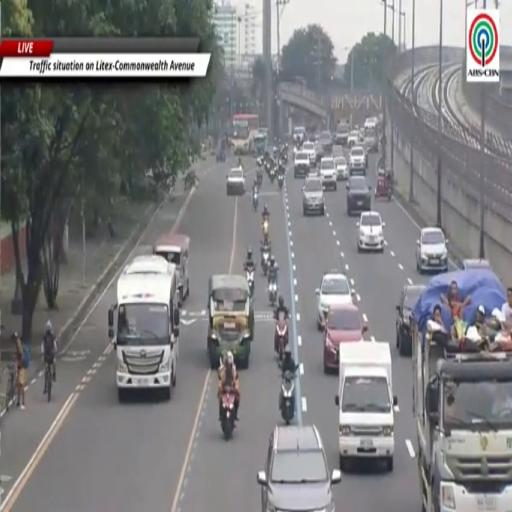bus: (231, 114, 259, 154)
car: (257, 425, 341, 511), (324, 303, 368, 373), (316, 270, 354, 329), (396, 284, 426, 356), (416, 228, 448, 274), (357, 212, 384, 252), (346, 176, 371, 216), (303, 175, 324, 215), (319, 157, 336, 190), (349, 147, 367, 175), (227, 168, 245, 196), (294, 151, 310, 178), (301, 141, 316, 165), (334, 156, 348, 180), (319, 132, 333, 155), (336, 122, 349, 146), (364, 132, 378, 153), (463, 259, 491, 269), (293, 126, 306, 145), (348, 131, 361, 147), (364, 118, 378, 132)
jeepney: (207, 275, 254, 369), (153, 232, 190, 303), (254, 133, 267, 156)
motorcycle: (280, 372, 294, 425), (221, 389, 235, 440), (275, 313, 288, 361), (268, 280, 277, 307), (246, 268, 254, 297), (261, 249, 269, 276), (262, 218, 269, 236), (253, 191, 258, 212), (278, 173, 284, 189), (257, 168, 262, 186), (265, 160, 271, 174), (270, 167, 275, 183), (282, 153, 287, 164), (273, 147, 278, 158)
tricycle: (375, 173, 392, 200)
truck: (412, 270, 511, 511), (108, 255, 180, 402), (336, 341, 397, 471)
